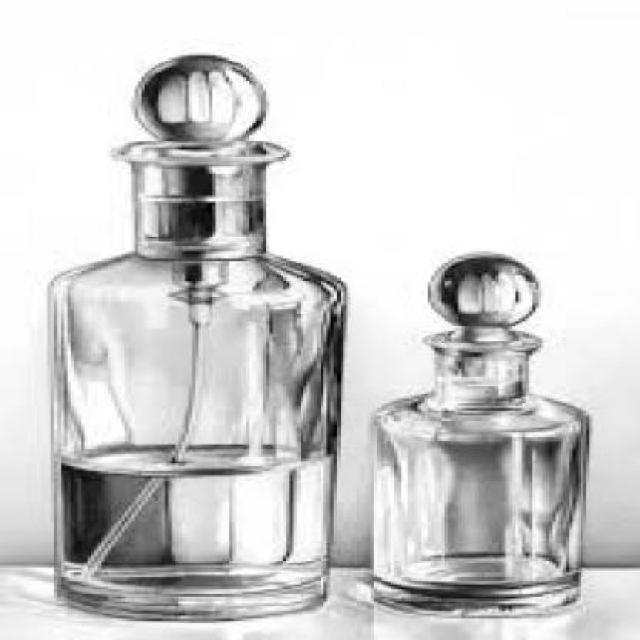kaca: (44, 54, 344, 617), (371, 251, 583, 618)
